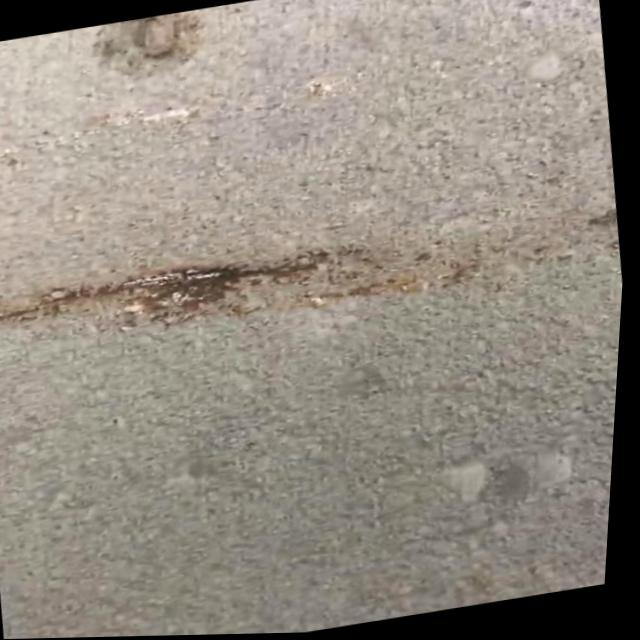Crack: (0, 225, 422, 359)
